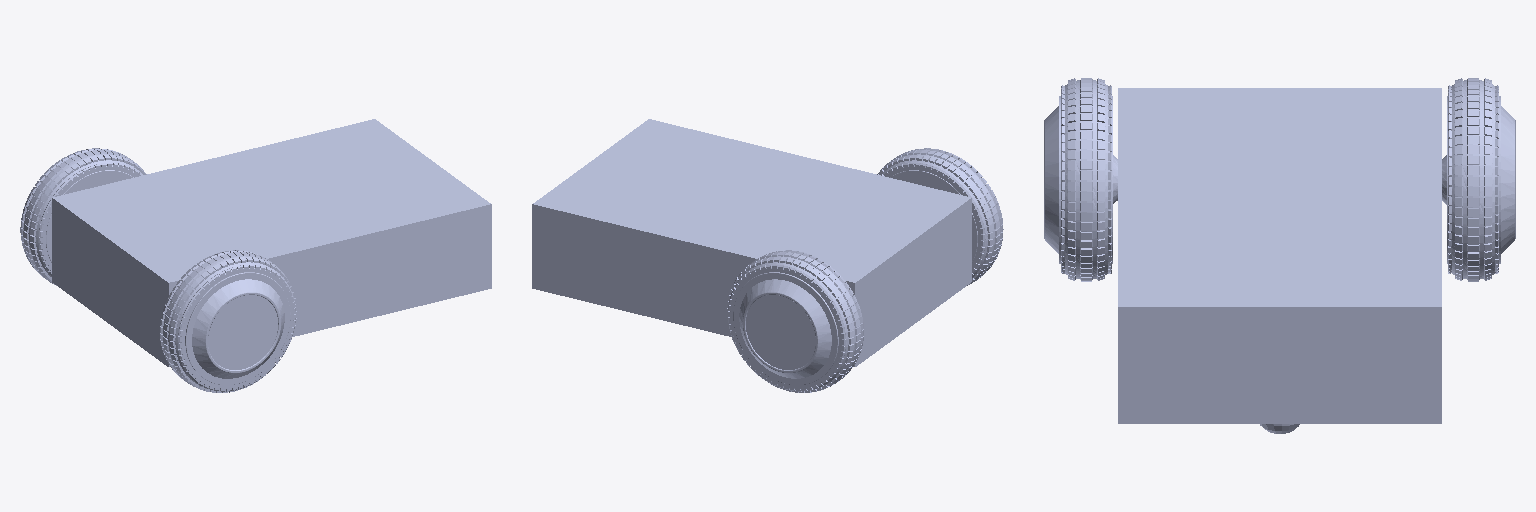
robot.urdf — trial_robot_v2:
<?xml version="1.0" encoding="utf-8"?>
<!-- This URDF was automatically created by SolidWorks to URDF Exporter! Originally created by [author] ([email redacted]) 
     Commit Version: 1.6.0-1-g15f4949  Build Version: 1.6.7594.29634
     For more information, please see http://wiki.ros.org/sw_urdf_exporter -->
<robot
  name="trial_robot_v2">
  <link
    name="base_link">
    <inertial>
      <origin
        xyz="0.00154699444157638 0 -0.0501831136277785"
        rpy="0 0 0" />
      <mass
        value="9.95078171509376" />
      <inertia
        ixx="0.0601227616494761"
        ixy="1.19508306577246E-17"
        ixz="0.000270499745566087"
        iyy="0.140876399625272"
        iyz="1.37038810953792E-19"
        izz="0.184107375655444" />
    </inertial>
    <visual>
      <origin
        xyz="0 0 0"
        rpy="0 0 0" />
      <geometry>
        <mesh
          filename="package://trial_robot_v2/meshes/base_link.STL" />
      </geometry>
      <material
        name="">
        <color
          rgba="0.792156862745098 0.819607843137255 0.933333333333333 1" />
      </material>
    </visual>
    <collision>
      <origin
        xyz="0 0 0"
        rpy="0 0 0" />
      <geometry>
        <mesh
          filename="package://trial_robot_v2/meshes/base_link.STL" />
      </geometry>
    </collision>
  </link>
  <link
    name="left_link">
    <inertial>
      <origin
        xyz="6.5059E-06 0.020264 2.6981E-06"
        rpy="0 0 0" />
      <mass
        value="0.32782" />
      <inertia
        ixx="0.00076691"
        ixy="1.2229E-07"
        ixz="6.2258E-09"
        iyy="0.0013622"
        iyz="5.0714E-08"
        izz="0.0007669" />
    </inertial>
    <visual>
      <origin
        xyz="0 0 0"
        rpy="0 0 0" />
      <geometry>
        <mesh
          filename="package://trial_robot_v2/meshes/left_link.STL" />
      </geometry>
      <material
        name="">
        <color
          rgba="0.79216 0.81961 0.93333 1" />
      </material>
    </visual>
    <collision>
      <origin
        xyz="0 0 0"
        rpy="0 0 0" />
      <geometry>
        <mesh
          filename="package://trial_robot_v2/meshes/left_link.STL" />
      </geometry>
    </collision>
  </link>
  <joint
    name="left_joint"
    type="continuous">
    <origin
      xyz="-0.14 0.129 -0.05"
      rpy="0 0 0" />
    <parent
      link="base_link" />
    <child
      link="left_link" />
    <axis
      xyz="0 1 0" />
    <limit
      effort="1"
      velocity="1" />
  </joint>
  <link
    name="right_link">
    <inertial>
      <origin
        xyz="-6.7382E-06 -0.020264 -2.0501E-06"
        rpy="0 0 0" />
      <mass
        value="0.32782" />
      <inertia
        ixx="0.00076692"
        ixy="1.2666E-07"
        ixz="4.8995E-09"
        iyy="0.0013622"
        iyz="3.8537E-08"
        izz="0.0007669" />
    </inertial>
    <visual>
      <origin
        xyz="0 0 0"
        rpy="0 0 0" />
      <geometry>
        <mesh
          filename="package://trial_robot_v2/meshes/right_link.STL" />
      </geometry>
      <material
        name="">
        <color
          rgba="0.79216 0.81961 0.93333 1" />
      </material>
    </visual>
    <collision>
      <origin
        xyz="0 0 0"
        rpy="0 0 0" />
      <geometry>
        <mesh
          filename="package://trial_robot_v2/meshes/right_link.STL" />
      </geometry>
    </collision>
  </link>
  <joint
    name="right_joint"
    type="continuous">
    <origin
      xyz="-0.14 -0.129 -0.05"
      rpy="0 0 0" />
    <parent
      link="base_link" />
    <child
      link="right_link" />
    <axis
      xyz="0 1 0" />
    <limit
      effort="1"
      velocity="1" />
  </joint>

    <gazebo>
  <plugin name="differential_drive_controller" filename="libgazebo_ros_diff_drive.so">

    <!-- Plugin update rate in Hz -->
    <updateRate>100.0</updateRate>

    <!-- Name of left joint, defaults to `left_joint` -->
    <leftJoint>left_joint</leftJoint>

    <!-- Name of right joint, defaults to `right_joint` -->
    <rightJoint>right_joint</rightJoint>

    <!-- The distance from the center of one wheel to the other, in meters, defaults to 0.34 m -->
    <wheelSeparation>0.3</wheelSeparation>

    <!-- Diameter of the wheels, in meters, defaults to 0.15 m -->
    <wheelDiameter>0.15</wheelDiameter>

    <!-- Wheel acceleration, in rad/s^2, defaults to 0.0 rad/s^2 -->
    <wheelAcceleration>1.0</wheelAcceleration>

    <!-- Maximum torque which the wheels can produce, in Nm, defaults to 5 Nm -->
    <wheelTorque>20</wheelTorque>

    <!-- Topic to receive geometry_msgs/Twist message commands, defaults to `cmd_vel` -->
    <commandTopic>cmd_vel</commandTopic>

    <!-- Topic to publish nav_msgs/Odometry messages, defaults to `odom` -->
    <odometryTopic>odom</odometryTopic>

    <!-- Odometry frame, defaults to `odom` -->
    <odometryFrame>odom</odometryFrame>

    <!-- Robot frame to calculate odometry from, defaults to `base_footprint` -->
    <robotBaseFrame>base_footprint</robotBaseFrame>

    <!-- Odometry source, 0 for ENCODER, 1 for WORLD, defaults to WORLD -->
    <odometrySource>1</odometrySource>

    <!-- Set to true to publish transforms for the wheel links, defaults to false -->
    <publishWheelTF>true</publishWheelTF>

    <!-- Set to true to publish transforms for the odometry, defaults to true -->
    <publishOdom>true</publishOdom>

    <!-- Set to true to publish sensor_msgs/JointState on /joint_states for the wheel joints, defaults to false -->
    <publishWheelJointState>true</publishWheelJointState>

    <!-- Set to true to swap right and left wheels, defaults to true -->
    <legacyMode>false</legacyMode>
  </plugin>
</gazebo>

</robot>

--- What the picture shows (computed from the rendered views, not written in the file) ---
Views: 3 orthographic renders of the robot side by side, from view 1: azimuth 30°, elevation 25°; view 2: azimuth 150°, elevation 25°; view 3: azimuth 270°, elevation 25°.
Model trial_robot_v2 with 3 links and 2 joints (2 continuous), rooted at base_link, posed all joints at 0.
Links seen in each view (by area): view 1: base_link, right_link, left_link; view 2: base_link, left_link, right_link; view 3: base_link, left_link, right_link.
Boxes of the visible links, x1,y1,x2,y2 form: base_link: (52,119,491,366); right_link: (160,250,296,392); left_link: (20,148,146,285); base_link: (532,119,971,366); left_link: (727,250,863,392); right_link: (877,148,1003,285); base_link: (1118,88,1441,433); left_link: (1442,78,1515,281); right_link: (1044,78,1117,281).
Bounding box of the posed robot: 0.419 × 0.364 × 0.159 m (x, y, z).
Meshes: 3 distinct files referenced, 3 mesh visuals loaded (3 binary STL).